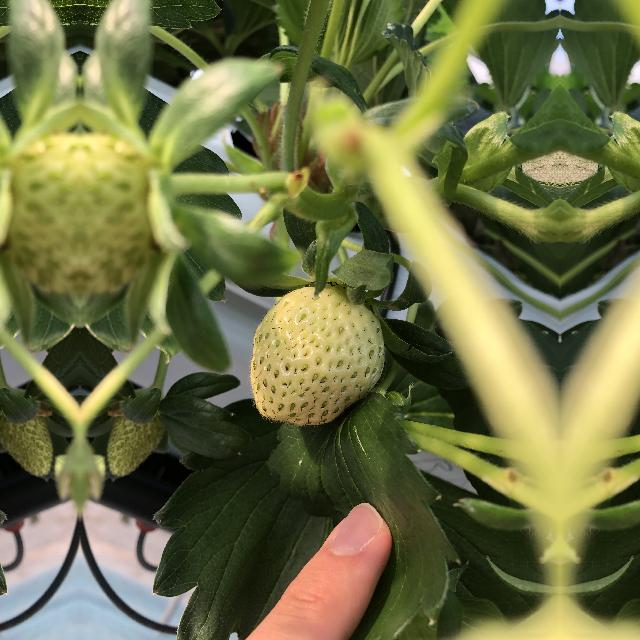Health_25: (243, 281, 387, 431), (107, 403, 165, 477), (0, 403, 53, 477)
